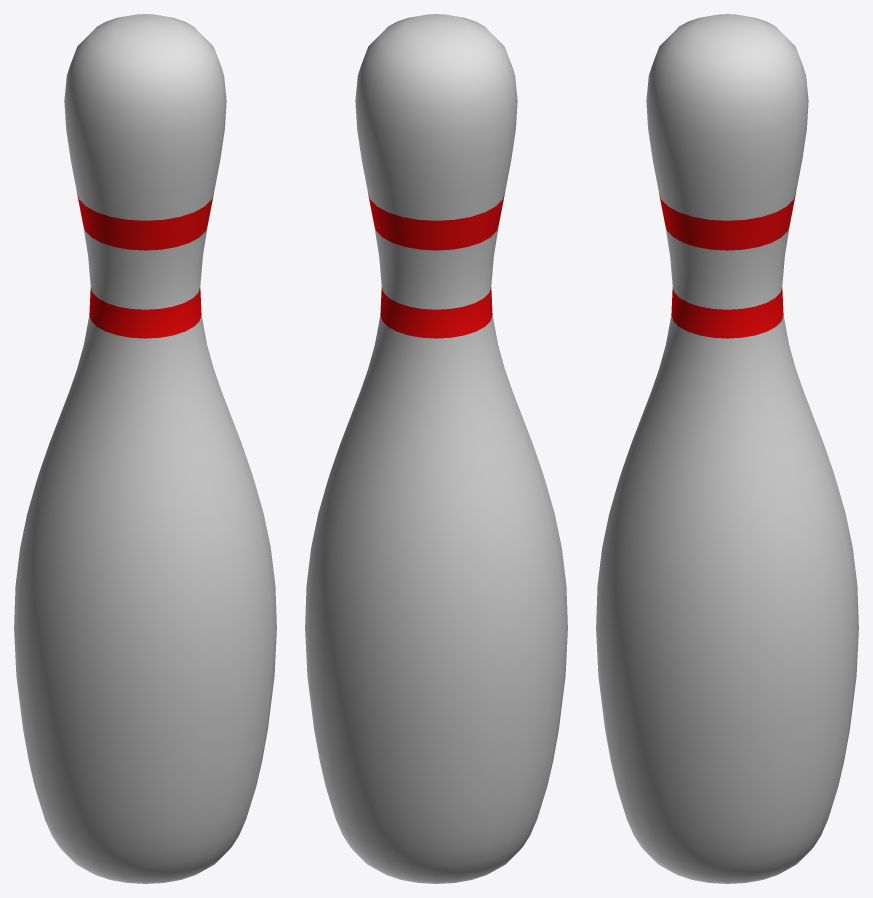
The model's file is BowlingPin.obj.
3 views of the same model, side by side, from view 1: azimuth 30°, elevation 25°; view 2: azimuth 150°, elevation 25°; view 3: azimuth 270°, elevation 25° (orthographic).
Visible parts, largest first — view 1: Pin_Mesh; view 2: Pin_Mesh; view 3: Pin_Mesh.
Part boxes in pixels (x1,y1,x2,y2): Pin_Mesh: (14,14,276,883); Pin_Mesh: (305,14,567,883); Pin_Mesh: (596,14,858,883).
Bounding box in the file's own units: 1.08 × 3.8 × 1.08.
